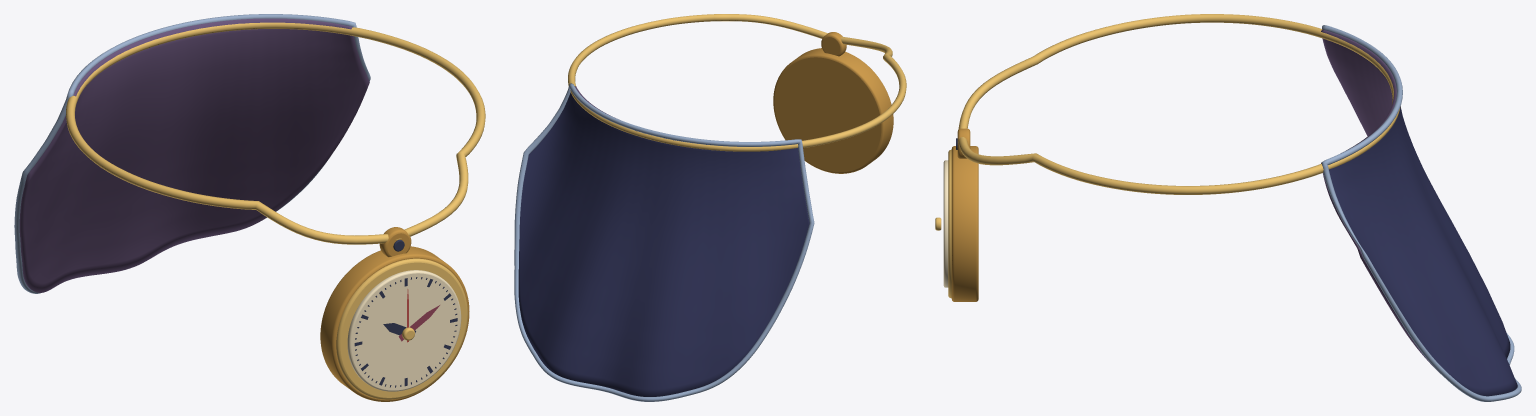
Rendered from hold-time.glb.
3 renders of one model, left to right at view 1: azimuth 30°, elevation 25°; view 2: azimuth 150°, elevation 25°; view 3: azimuth 270°, elevation 25°, orthographic. The views are drawn at different scales.
Visible parts, largest first — view 1: Open shoulder cape display, Ivory pocket watch dial display, Brass necklace cord display, Pocket watch bezel display, Large pocket watch case display, Continuous cape piping display, Pocket watch necklace eyelet display, Engraved clock minute marks display; view 2: Open shoulder cape display, Large pocket watch case display, Continuous cape piping display, Brass necklace cord display, Pocket watch necklace eyelet display; view 3: Open shoulder cape display, Brass necklace cord display, Large pocket watch case display, Continuous cape piping display, Ivory pocket watch dial display, Pocket watch bezel display.
Part boxes in pixels (x1,y1,x2,y2): Open shoulder cape display: (19, 18, 369, 292); Ivory pocket watch dial display: (347, 270, 461, 391); Brass necklace cord display: (66, 22, 485, 244); Pocket watch bezel display: (336, 258, 467, 399); Large pocket watch case display: (320, 246, 469, 401); Continuous cape piping display: (14, 14, 370, 293); Pocket watch necklace eyelet display: (379, 227, 411, 257); Engraved clock minute marks display: (354, 277, 457, 387); Open shoulder cape display: (518, 86, 809, 396); Large pocket watch case display: (773, 48, 893, 173); Continuous cape piping display: (514, 83, 814, 401); Brass necklace cord display: (568, 14, 906, 151); Pocket watch necklace eyelet display: (821, 32, 846, 56); Open shoulder cape display: (1321, 29, 1517, 396); Brass necklace cord display: (958, 14, 1400, 194); Large pocket watch case display: (951, 146, 978, 301); Continuous cape piping display: (1322, 25, 1521, 401); Ivory pocket watch dial display: (943, 160, 948, 287); Pocket watch bezel display: (948, 149, 951, 298).
Size of the model in its own units: 1.74 by 1.29 by 2.45.
